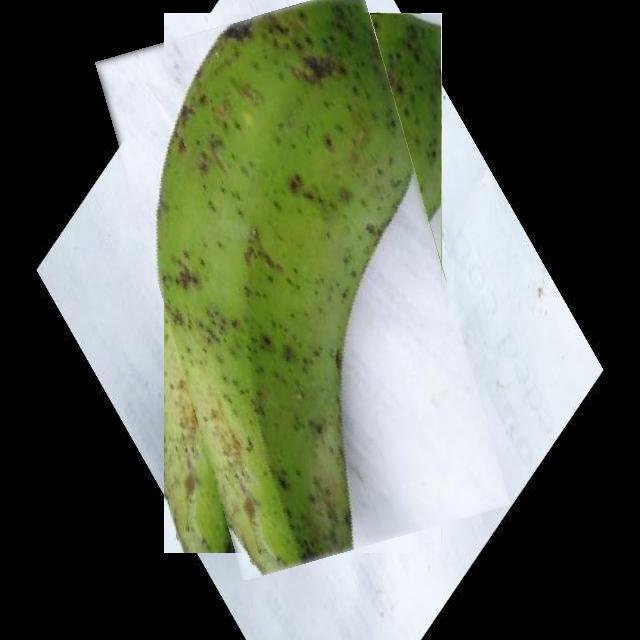Verde: (130, 0, 477, 566)
